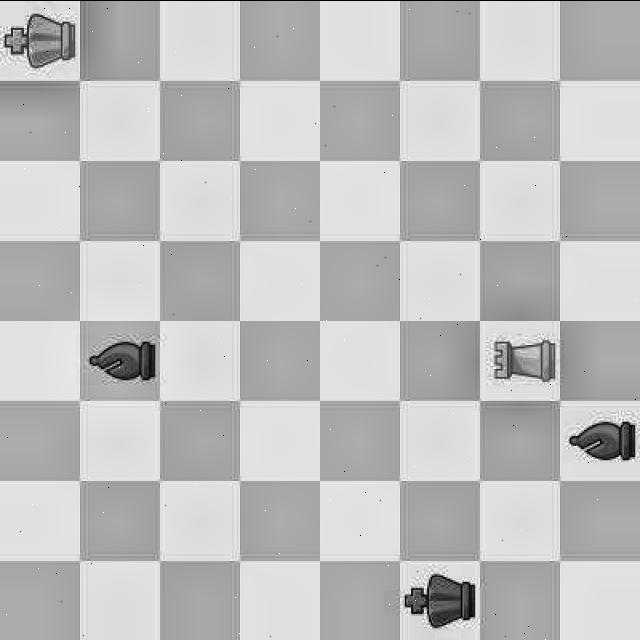black bishop: (565, 405, 640, 480), (85, 330, 155, 386)
black king: (402, 562, 474, 626)
white king: (0, 0, 77, 76)
white rook: (483, 322, 552, 392)
